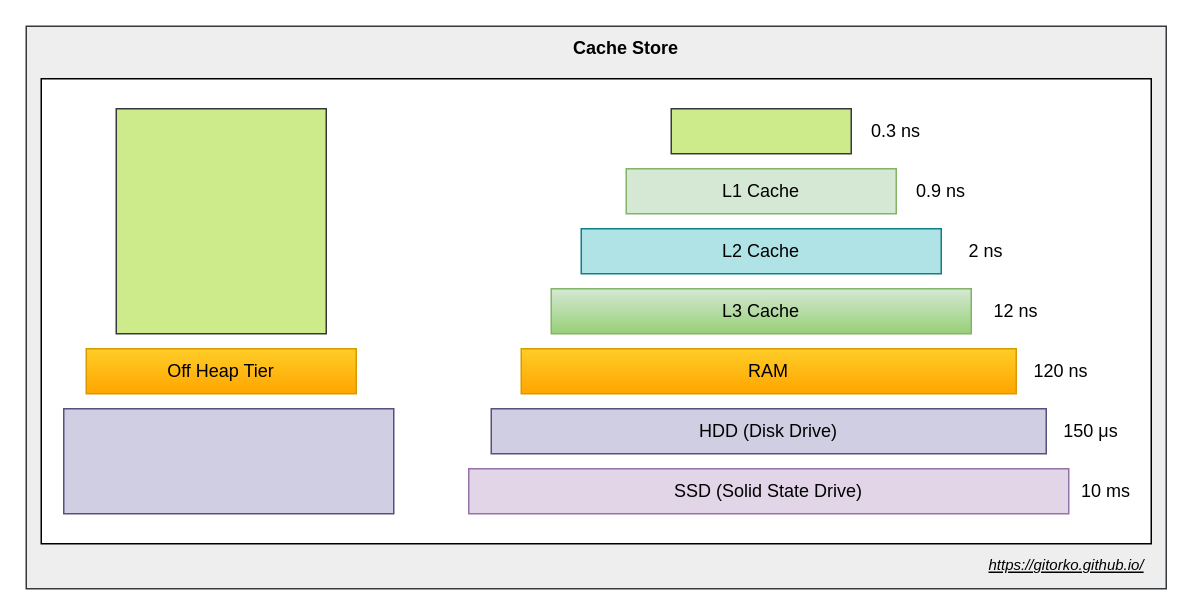
Image size: 1193x615. Some labels were removed from this diagram. Each missing label, with the centre of its shape:
"Disk Tier" goes at point (228, 460).
"Heap Tier" goes at point (220, 220).
"Register" goes at point (760, 130).
